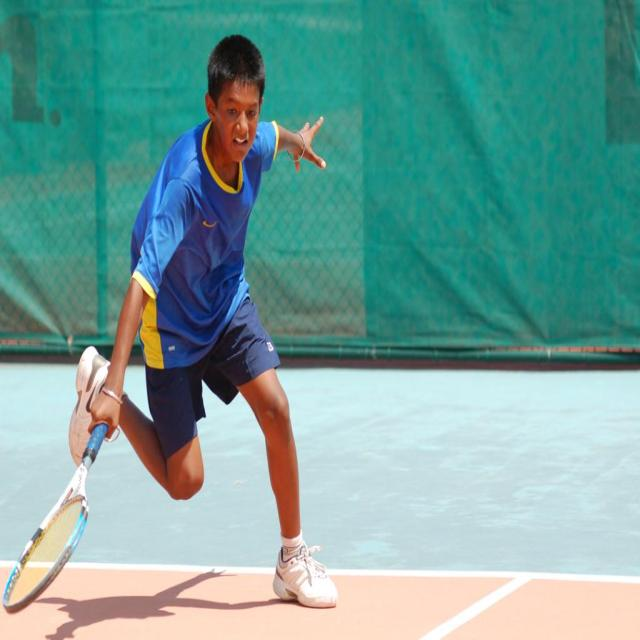Face: (210, 74, 263, 167)
